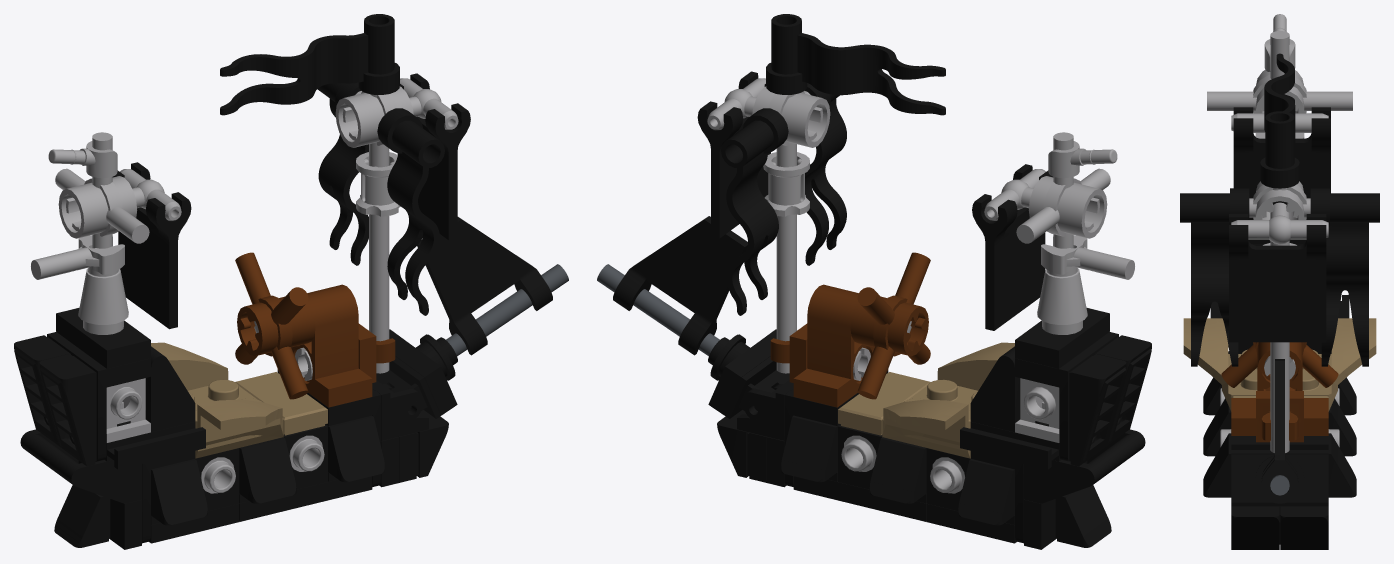
The model's file is legoNav.glb.
3 renders of one model, left to right at view 1: azimuth 30°, elevation 25°; view 2: azimuth 150°, elevation 25°; view 3: azimuth 270°, elevation 25°, orthographic. The views are drawn at different scales.
Parts seen in each view (by area): view 1: part.057, part.064, part.055, part.039, part.041, part.049, part.042, part.047, part.034, part.059, part.056, part.036 (+37 smaller); view 2: part.057, part.064, part.056, part.039, part.049, part.041, part.042, part.047, part.033, part.055, part.036, part.059 (+37 smaller); view 3: part.059, part.056, part.055, part.039, part.049, part.057, part.047, part.061, part.042, part.022, part.025, part.064 (+18 smaller).
Boxes of the visible parts, x1,y1,x2,y2 form: part.057: [220, 14, 399, 115]; part.064: [417, 217, 552, 355]; part.055: [377, 108, 444, 315]; part.039: [151, 342, 283, 458]; part.041: [235, 252, 315, 399]; part.049: [112, 162, 191, 329]; part.042: [277, 284, 372, 407]; part.047: [55, 132, 149, 248]; part.034: [39, 354, 96, 466]; part.059: [397, 73, 470, 240]; part.056: [317, 82, 368, 265]; part.036: [20, 429, 141, 503]; part.057: [766, 14, 945, 115]; part.064: [613, 216, 747, 355]; part.056: [721, 108, 788, 315]; part.039: [882, 342, 1014, 458]; part.049: [972, 164, 1053, 330]; part.041: [850, 252, 930, 399]; part.042: [793, 284, 888, 407]; part.047: [1016, 132, 1110, 248]; part.033: [1069, 354, 1126, 466]; part.055: [805, 83, 846, 265]; part.036: [1024, 429, 1145, 503]; part.059: [697, 71, 770, 238]; part.059: [1229, 214, 1326, 342]; part.056: [1310, 188, 1379, 366]; part.055: [1180, 188, 1249, 366]; part.039: [1183, 318, 1376, 411]; part.049: [1233, 107, 1330, 219]; part.057: [1260, 53, 1299, 188]; part.047: [1207, 31, 1352, 113]; part.061: [1231, 453, 1328, 502]; part.042: [1231, 342, 1328, 435]; part.022: [1231, 506, 1279, 549]; part.025: [1280, 506, 1328, 549]; part.064: [1261, 359, 1298, 495].
Size of the model in its own units: 95.78 by 76.38 by 32.8.
